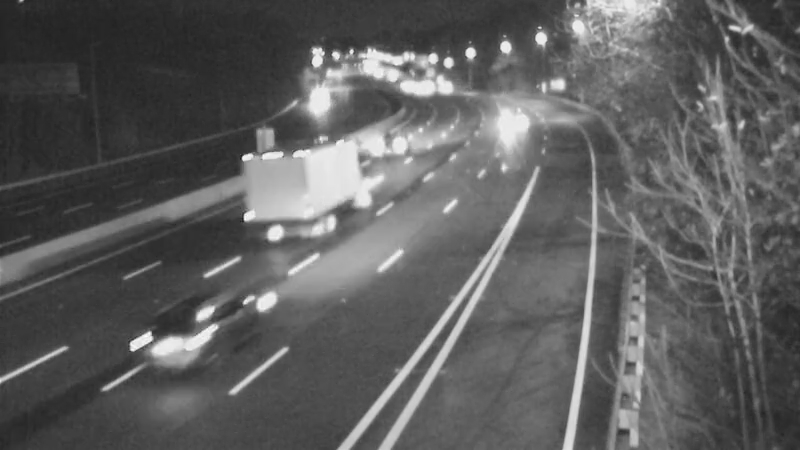vehicle: (115, 284, 225, 394), (248, 163, 328, 243), (423, 61, 473, 111), (481, 98, 531, 148), (369, 114, 419, 164), (338, 117, 388, 167)
